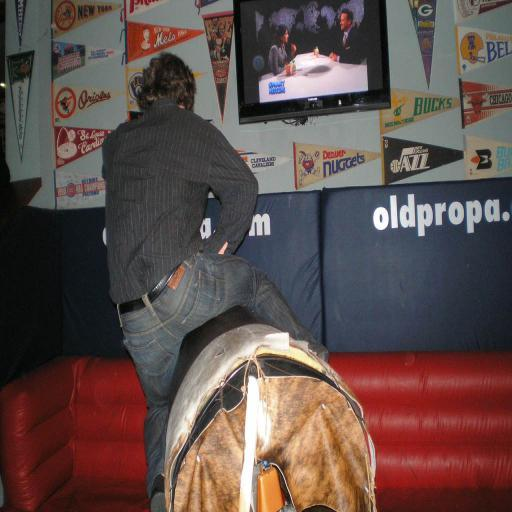Horse: (159, 298, 379, 512)
